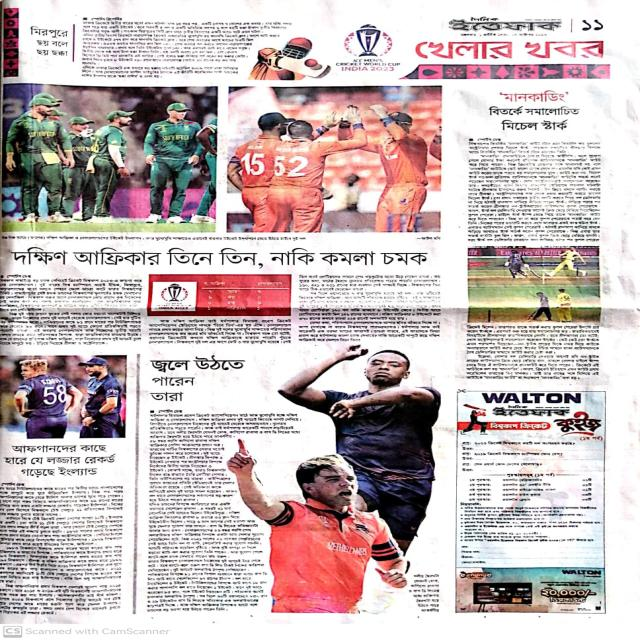advertisement: (454, 388, 607, 614)
caption: (1, 235, 307, 241), (407, 573, 440, 614)
image: (225, 343, 443, 616), (1, 83, 219, 233), (226, 85, 443, 233), (0, 354, 129, 440), (466, 245, 601, 323), (146, 274, 292, 317), (244, 37, 333, 81), (395, 64, 613, 80), (334, 24, 401, 72), (2, 7, 20, 77)
page number: (581, 19, 604, 32)
paragraph: (146, 412, 302, 613), (467, 154, 602, 243), (81, 21, 293, 65), (0, 311, 142, 346), (0, 278, 143, 312), (0, 545, 122, 584), (298, 291, 442, 321), (465, 324, 600, 355), (0, 583, 122, 616), (0, 485, 124, 517), (0, 515, 123, 547), (148, 318, 292, 345), (465, 354, 600, 380), (296, 320, 441, 342), (297, 274, 442, 291), (80, 65, 239, 79), (467, 141, 603, 154)
text: (90, 16, 122, 21), (416, 235, 442, 241), (476, 137, 502, 142), (5, 274, 32, 278), (0, 482, 26, 486), (158, 409, 184, 413)
title: (8, 247, 430, 270), (145, 354, 248, 404), (483, 89, 584, 132), (2, 442, 118, 479), (414, 39, 605, 60), (446, 16, 563, 38), (28, 25, 69, 58)
